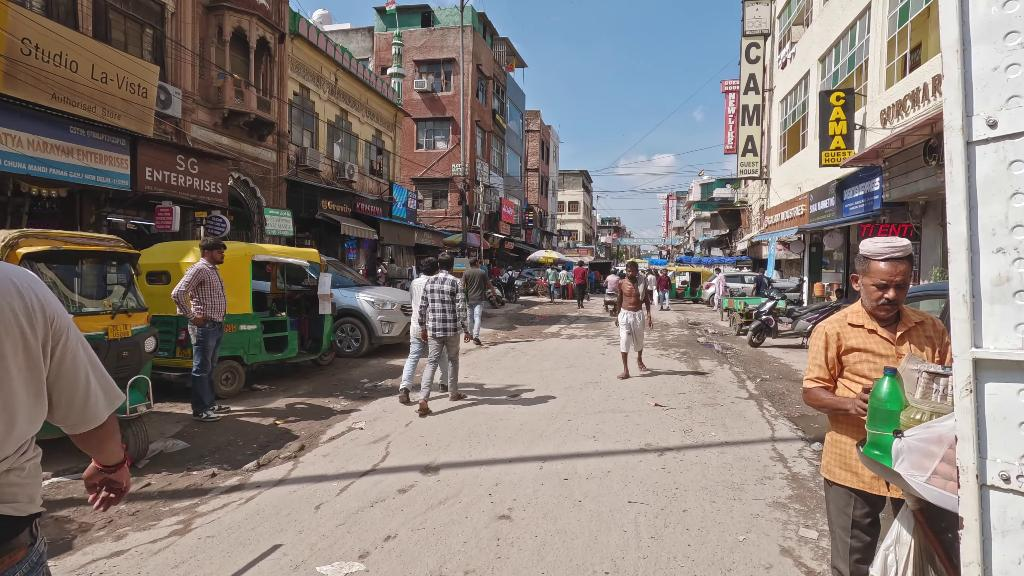garbage: (317, 561, 369, 576)
